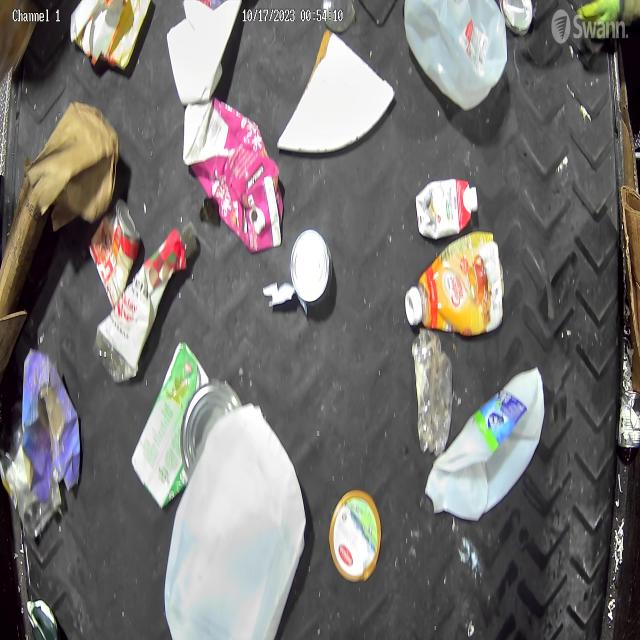can: (89, 196, 143, 304), (290, 229, 333, 305), (618, 391, 640, 449)
milk_jug: (164, 406, 307, 639), (428, 367, 549, 522), (404, 0, 509, 110)
non_white_jug: (184, 98, 283, 253)
plastic_bottle: (411, 328, 456, 454)
